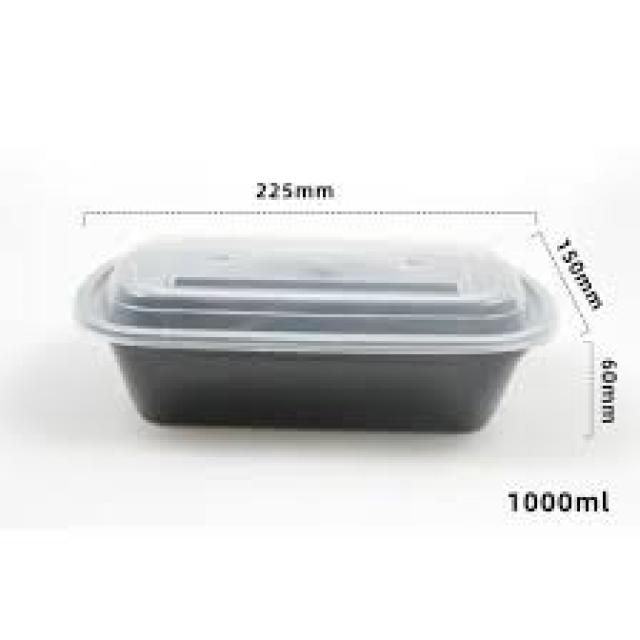disposable: (76, 221, 556, 448)
